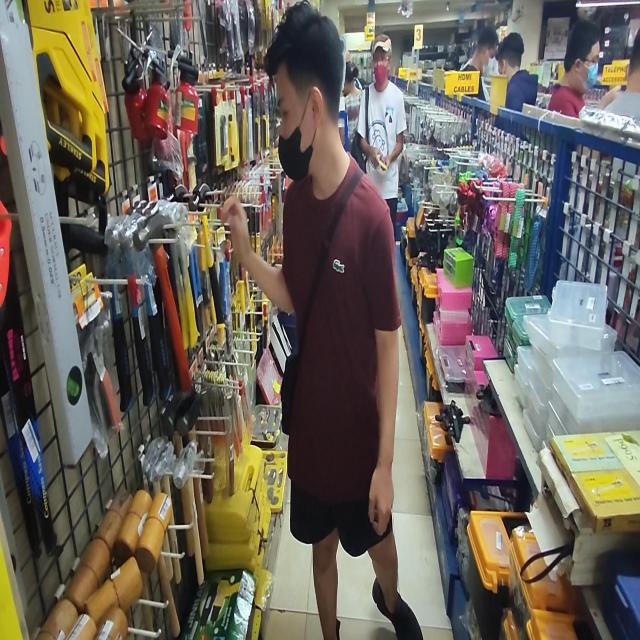hammer: (133, 213, 191, 390)
